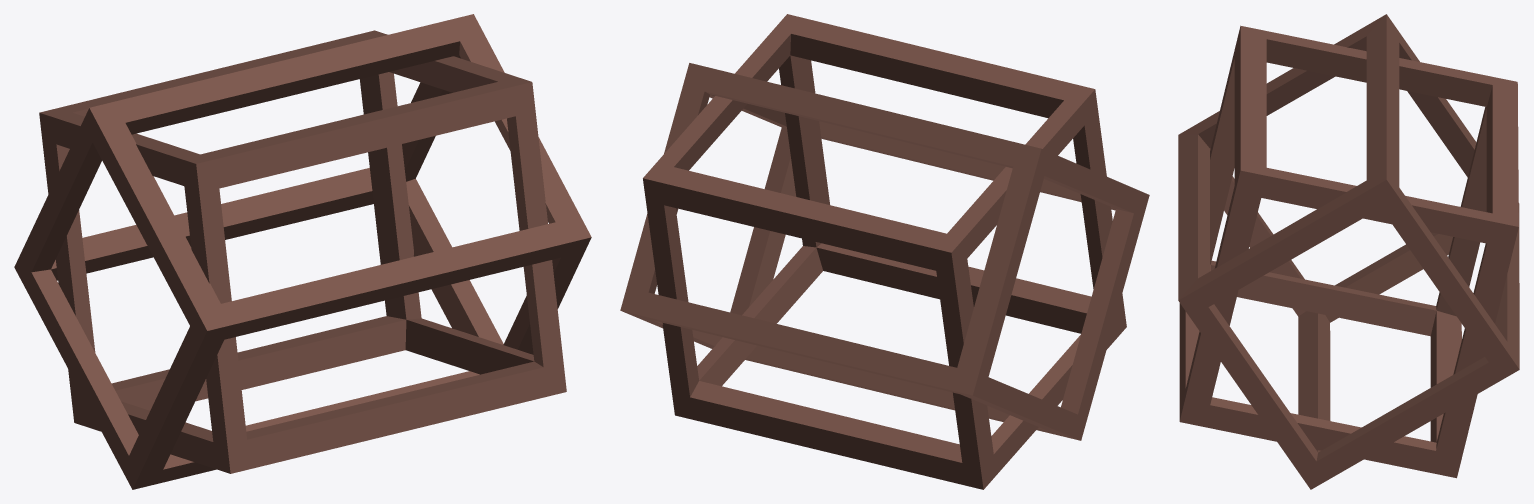
The model's file is Wine holder (wood optical illusion).fbx.
3 views of the same model, side by side, from view 1: azimuth 30°, elevation 25°; view 2: azimuth 150°, elevation 25°; view 3: azimuth 270°, elevation 25° (orthographic). The views are drawn at different scales.
Parts seen in each view (by area): view 1: Cube.026; view 2: Cube.026; view 3: Cube.026.
Part boxes in pixels (bbox=[...]): Cube.026: bbox=[14, 14, 591, 489]; Cube.026: bbox=[620, 14, 1149, 489]; Cube.026: bbox=[1178, 14, 1519, 489].
Size of the model in its own units: 0.5444 by 0.4756 by 0.4744.
